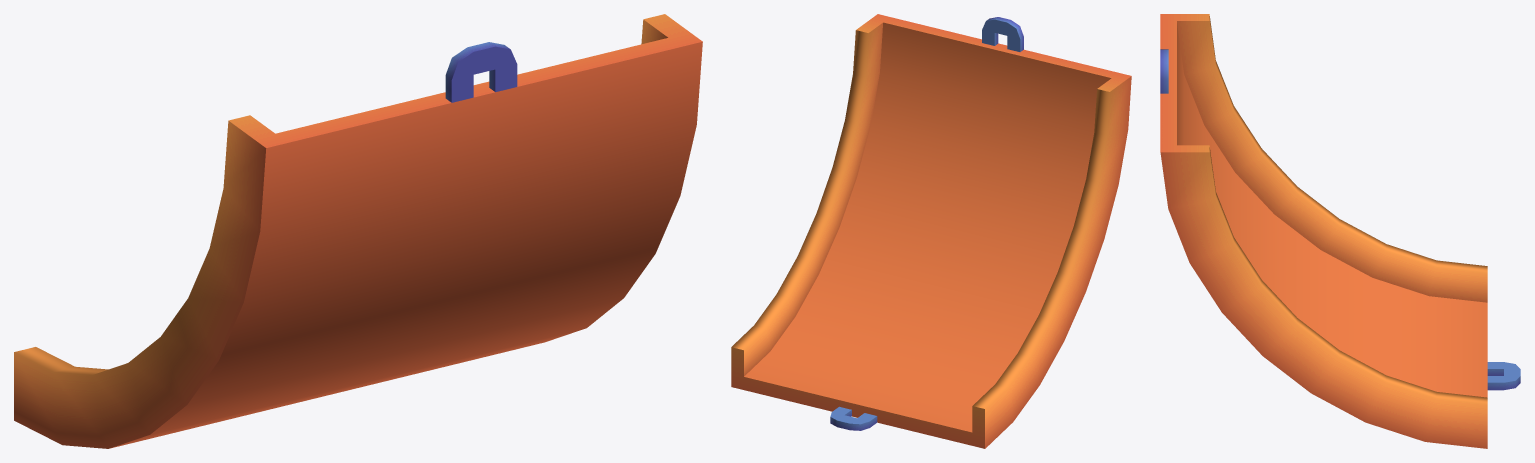
Rendered from track-wide-straight-bend.glb.
3 renders of one model, left to right at view 1: azimuth 30°, elevation 25°; view 2: azimuth 150°, elevation 25°; view 3: azimuth 270°, elevation 25°, orthographic. The views are drawn at different scales.
Visible parts, largest first — view 1: track-wide-straight-bend; view 2: track-wide-straight-bend; view 3: track-wide-straight-bend.
Part boxes in pixels (x1=…): track-wide-straight-bend: x1=14, y1=14, x2=702, y2=448; track-wide-straight-bend: x1=731, y1=14, x2=1131, y2=448; track-wide-straight-bend: x1=1160, y1=14, x2=1520, y2=448.
Bounding box in the file's own units: 2 × 2.2 × 2.2.
Materials: 1 (1 with a texture image).
